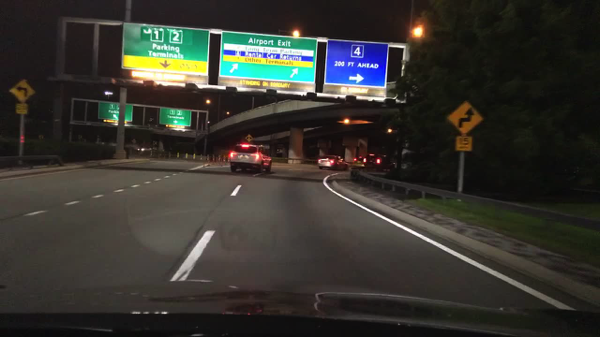car: (229, 143, 272, 175), (317, 155, 349, 172), (363, 154, 393, 170), (275, 146, 286, 158), (353, 156, 366, 163), (138, 147, 145, 151)
traffic sign: (218, 30, 318, 95), (121, 22, 210, 85), (323, 39, 388, 98), (445, 101, 484, 135), (97, 101, 133, 125), (158, 108, 191, 131), (8, 78, 36, 104), (455, 137, 473, 153), (15, 103, 30, 116), (244, 134, 254, 143), (38, 134, 44, 141), (76, 134, 83, 140), (131, 139, 137, 144), (152, 141, 157, 147)
